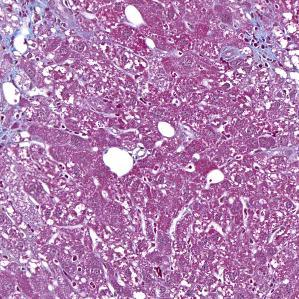fibrosis: (5, 5, 96, 62), (247, 25, 295, 78)
